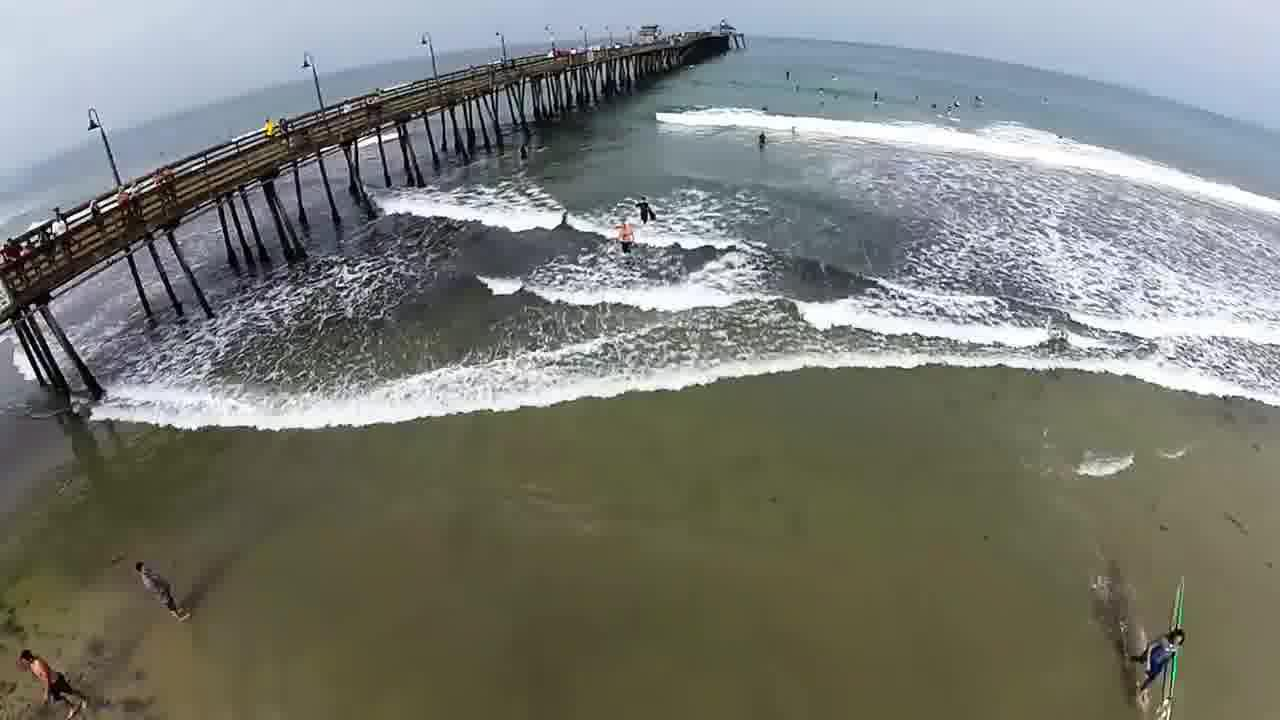swimmer: (606, 216, 634, 264), (631, 188, 662, 227), (510, 133, 541, 168), (749, 120, 776, 157)
